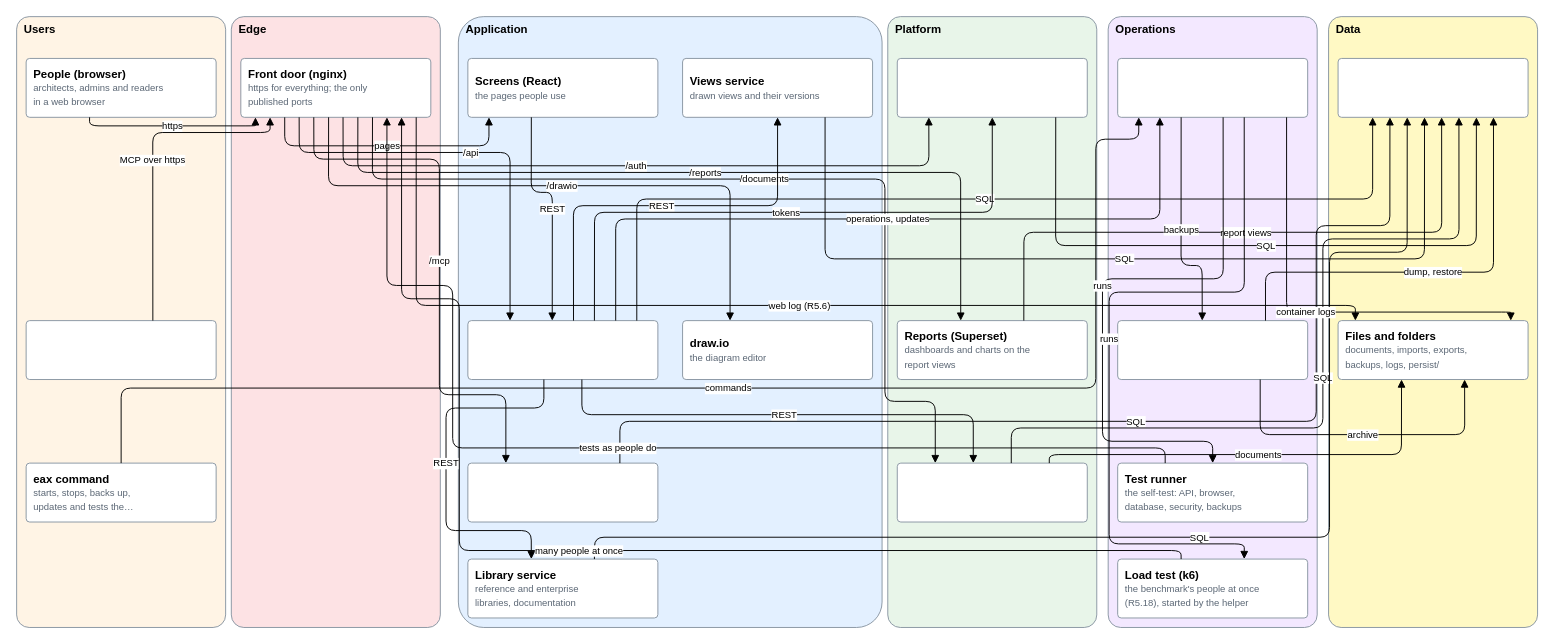
The diagram is 1554 pixels wide and 644 high, and some of its shapes have lost their labels. Here are the shapes that lost their labels. From the top down, the centre of each, then its label:
At point 991,87: "Keycloak sign-in and the global roles".
At point 1212,87: "Operations helper backups, restores, updates, logs, the Command centre, the…".
At point 1432,87: "PostgreSQL one database: the repository and its schemas (tests,…".
At point 120,350: "AI assistant a person's own language model, through MCP".
At point 562,350: "API and job runner REST API, background jobs, the rules".
At point 1212,350: "Backup service dumps and restores every database and file set".
At point 562,492: "MCP server the tools an assistant may use, with the person's own rights;…".
At point 991,492: "Documents (Mayan) project documents and files".
